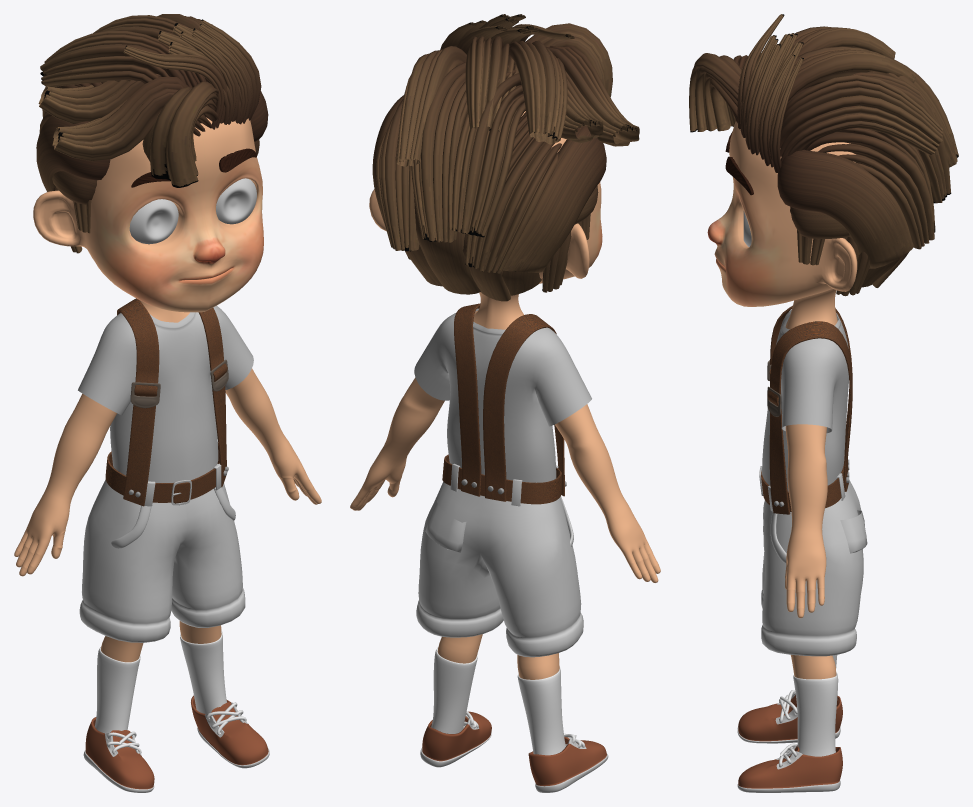
The model's file is Niño_lastversion.fbx.
3 renders of one model, left to right at view 1: azimuth 30°, elevation 25°; view 2: azimuth 150°, elevation 25°; view 3: azimuth 270°, elevation 25°, orthographic. The views are drawn at different scales.
Parts seen in each view (by area): view 1: Cube.005, uploads_files_388178_Toon+Girl+Head.003, Cube.010, NurbsCurve.004, Cube.003, NurbsPath.032, Cube.004, NurbsPath.028, NurbsPath.027, Sphere, NurbsPath.038, NurbsCurve.002 (+13 smaller); view 2: uploads_files_388178_Toon+Girl+Head.003, Cube.005, Cube.010, NurbsPath.040, NurbsCurve.004, NurbsPath.041, NurbsCurve.002, NurbsPath.039, Cube.004, Cube.003, NurbsPath.032, NurbsPath.033 (+9 smaller); view 3: Cube.005, uploads_files_388178_Toon+Girl+Head.003, NurbsCurve.002, NurbsPath.033, Cube.010, NurbsPath.040, Cube.003, NurbsCurve.004, NurbsPath.027, Cube.004, NurbsPath.031, NurbsPath.039 (+13 smaller).
Boxes of the visible parts, left/top/right/bottom form: Cube.005: left=14, top=117, right=321, bottom=662; uploads_files_388178_Toon+Girl+Head.003: left=79, top=464, right=245, bottom=642; Cube.010: left=78, top=305, right=253, bottom=482; NurbsCurve.004: left=117, top=298, right=227, bottom=506; Cube.003: left=83, top=695, right=269, bottom=792; NurbsPath.032: left=40, top=31, right=199, bottom=87; Cube.004: left=94, top=630, right=226, bottom=733; NurbsPath.028: left=52, top=77, right=189, bottom=161; NurbsPath.027: left=142, top=81, right=220, bottom=187; Sphere: left=129, top=178, right=256, bottom=244; NurbsPath.038: left=38, top=73, right=170, bottom=124; NurbsCurve.002: left=36, top=90, right=268, bottom=191; uploads_files_388178_Toon+Girl+Head.003: left=416, top=482, right=583, bottom=657; Cube.005: left=350, top=111, right=660, bottom=679; Cube.010: left=414, top=308, right=591, bottom=482; NurbsPath.040: left=376, top=99, right=561, bottom=273; NurbsCurve.004: left=454, top=303, right=564, bottom=501; NurbsPath.041: left=448, top=65, right=525, bottom=237; NurbsCurve.002: left=372, top=95, right=606, bottom=272; NurbsPath.039: left=411, top=61, right=466, bottom=242; Cube.004: left=431, top=647, right=565, bottom=755; Cube.003: left=420, top=711, right=608, bottom=792; NurbsPath.032: left=508, top=40, right=567, bottom=144; NurbsPath.033: left=396, top=46, right=466, bottom=166; Cube.005: left=707, top=121, right=857, bottom=679; uploads_files_388178_Toon+Girl+Head.003: left=761, top=480, right=867, bottom=656; NurbsCurve.002: left=777, top=149, right=913, bottom=268; NurbsPath.033: left=780, top=74, right=942, bottom=162; Cube.010: left=762, top=309, right=848, bottom=491; NurbsPath.040: left=806, top=128, right=935, bottom=249; Cube.003: left=737, top=692, right=842, bottom=792; NurbsCurve.004: left=767, top=305, right=852, bottom=514; NurbsPath.027: left=689, top=53, right=741, bottom=132; Cube.004: left=793, top=655, right=838, bottom=756; NurbsPath.031: left=787, top=46, right=916, bottom=103; NurbsPath.039: left=791, top=72, right=951, bottom=203.
Bounding box in the file's own units: 198 × 467 × 156.
